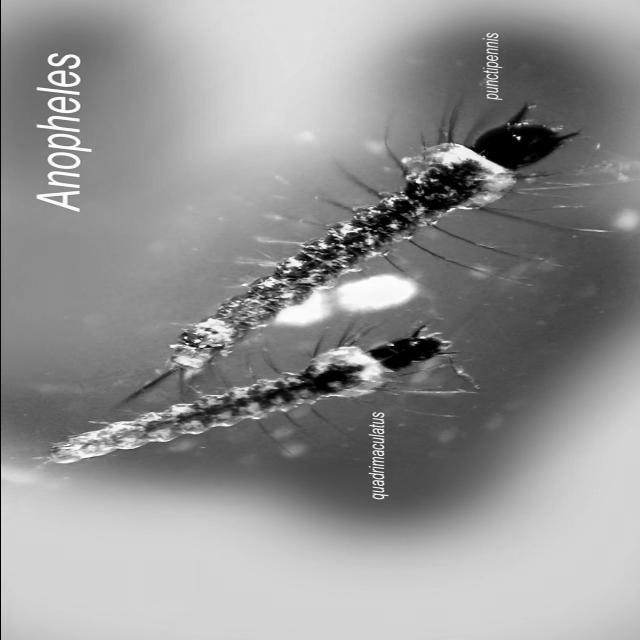larvas: (164, 114, 558, 374), (50, 340, 437, 470)
